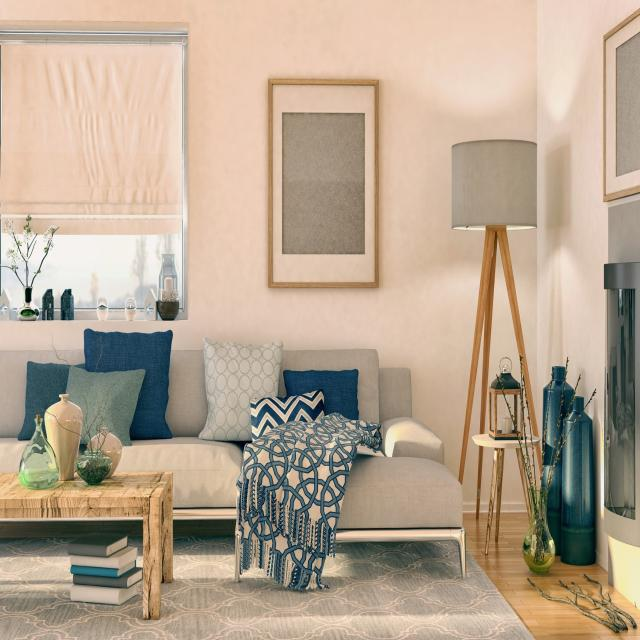modern sofa: (8, 328, 479, 586)
